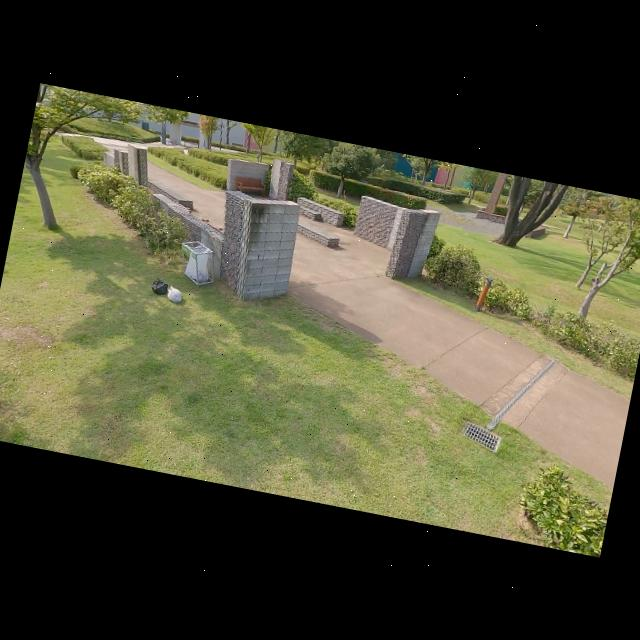trash: (165, 284, 186, 304), (150, 276, 171, 296)
